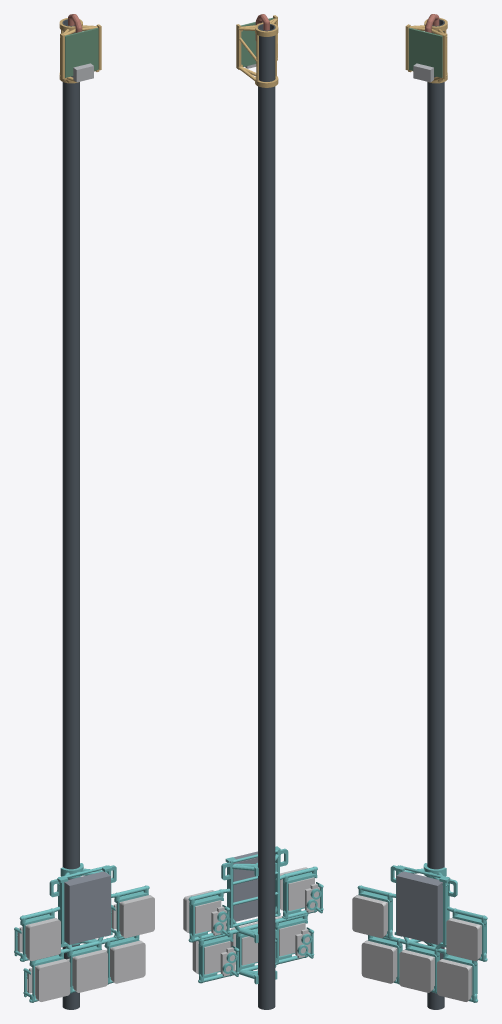
Rendered from Assembly-reference.glb.
3 renders of one model, left to right at view 1: azimuth 30°, elevation 25°; view 2: azimuth 210°, elevation 25°; view 3: azimuth 330°, elevation 25°, orthographic.
Visible parts, largest first — view 1: REFERENCE_rod, Key_Battery_Carrier, REFERENCE_battery, REFERENCE_key_3_cap, REFERENCE_key_2_cap, REFERENCE_key_4_cap, REFERENCE_key_1_cap, REFERENCE_key_0_cap, REFERENCE_pcb, XIAO_Rod_Holder; view 2: REFERENCE_rod, Key_Battery_Carrier, REFERENCE_battery, XIAO_Rod_Holder, REFERENCE_key_2_switch, REFERENCE_key_0_switch, REFERENCE_key_3_switch, REFERENCE_key_4_switch, REFERENCE_pcb, REFERENCE_key_1_switch; view 3: REFERENCE_rod, Key_Battery_Carrier, REFERENCE_battery, REFERENCE_pcb, REFERENCE_key_0_cap, REFERENCE_key_2_cap, REFERENCE_key_1_cap, REFERENCE_key_3_cap, REFERENCE_key_4_cap, XIAO_Rod_Holder.
Boxes of the visible parts, bbox=[...] form: REFERENCE_rod: bbox=[62, 19, 79, 1009]; Key_Battery_Carrier: bbox=[14, 863, 149, 1002]; REFERENCE_battery: bbox=[64, 871, 110, 944]; REFERENCE_key_3_cap: bbox=[26, 918, 60, 961]; REFERENCE_key_2_cap: bbox=[111, 940, 145, 983]; REFERENCE_key_4_cap: bbox=[120, 895, 154, 938]; REFERENCE_key_1_cap: bbox=[73, 949, 107, 992]; REFERENCE_key_0_cap: bbox=[36, 959, 70, 1001]; REFERENCE_pcb: bbox=[65, 28, 98, 77]; XIAO_Rod_Holder: bbox=[59, 18, 101, 83]; REFERENCE_rod: bbox=[258, 24, 275, 1009]; Key_Battery_Carrier: bbox=[188, 846, 323, 984]; REFERENCE_battery: bbox=[233, 851, 257, 921]; XIAO_Rod_Holder: bbox=[236, 15, 278, 87]; REFERENCE_key_2_switch: bbox=[204, 941, 230, 974]; REFERENCE_key_0_switch: bbox=[279, 923, 305, 956]; REFERENCE_key_3_switch: bbox=[288, 877, 314, 910]; REFERENCE_key_4_switch: bbox=[195, 900, 221, 933]; REFERENCE_pcb: bbox=[241, 17, 273, 66]; REFERENCE_key_1_switch: bbox=[241, 936, 257, 965]; REFERENCE_rod: bbox=[427, 19, 444, 1009]; Key_Battery_Carrier: bbox=[357, 863, 487, 1002]; REFERENCE_battery: bbox=[396, 871, 442, 944]; REFERENCE_pcb: bbox=[408, 28, 442, 77]; REFERENCE_key_0_cap: bbox=[361, 940, 396, 983]; REFERENCE_key_2_cap: bbox=[437, 959, 471, 1001]; REFERENCE_key_1_cap: bbox=[399, 949, 433, 992]; REFERENCE_key_3_cap: bbox=[352, 895, 386, 938]; REFERENCE_key_4_cap: bbox=[446, 918, 480, 961]; XIAO_Rod_Holder: bbox=[405, 18, 447, 83].
Size of the model in its own units: 69.1 by 506 by 24.8.
